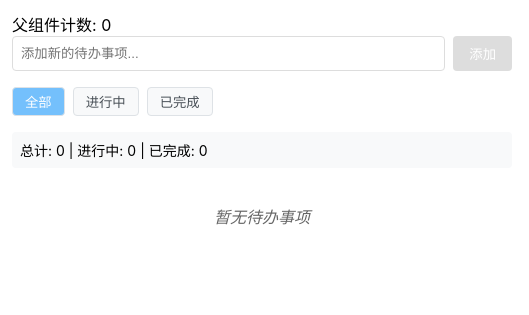
Test case: 集成测试示例 › 4. 跨组件交互测试 › 应该测试父子组件间的数据传递
Expected: the text with test id "parent-count" reads "父组件计数: 0", x1=12 y1=15 x2=111 y2=35
Step 1. Type "第一个任务" into the field with test id "new-todo-input" → (229, 54), box x1=12 y1=36 x2=445 y2=71
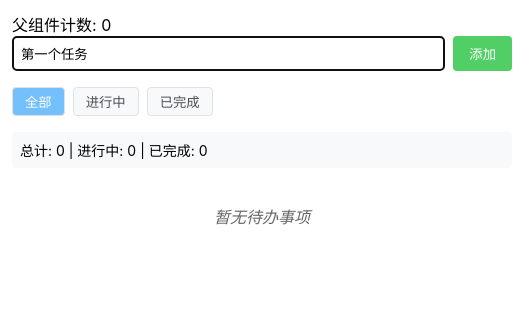
Step 2. Click the button with test id "add-todo-button" → (483, 54), box x1=453 y1=36 x2=512 y2=71
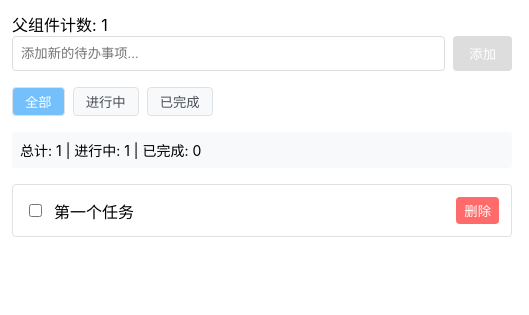
Expected: the text with test id "parent-count" reads "父组件计数: 1", x1=12 y1=15 x2=108 y2=35
Step 3. Type "第二个任务" into the field with test id "new-todo-input" → (229, 54), box x1=12 y1=36 x2=445 y2=71
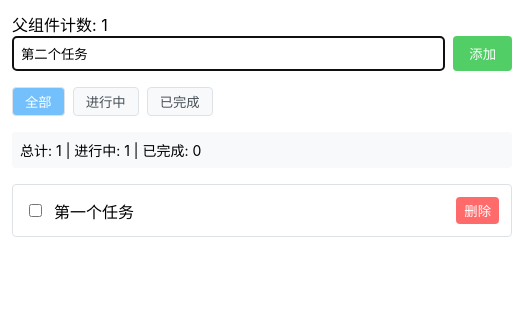
Step 4. Click the button with test id "add-todo-button" → (483, 54), box x1=453 y1=36 x2=512 y2=71
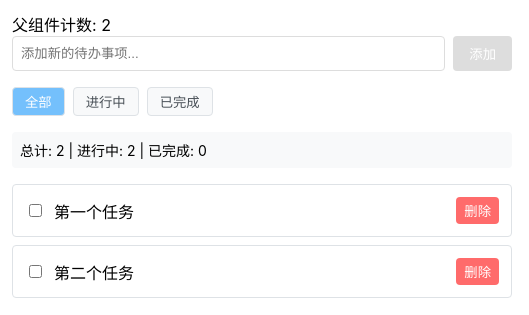
Expected: the text with test id "parent-count" reads "父组件计数: 2", x1=12 y1=15 x2=111 y2=35
